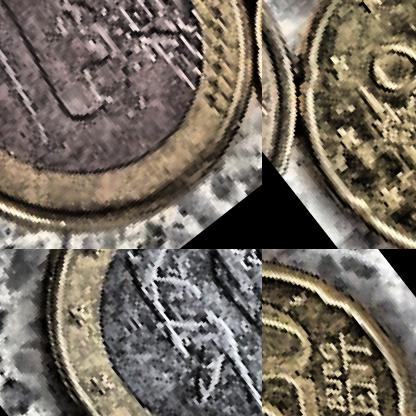coin: (0, 0, 261, 248), (0, 249, 261, 415), (262, 0, 415, 248), (262, 249, 415, 415)
